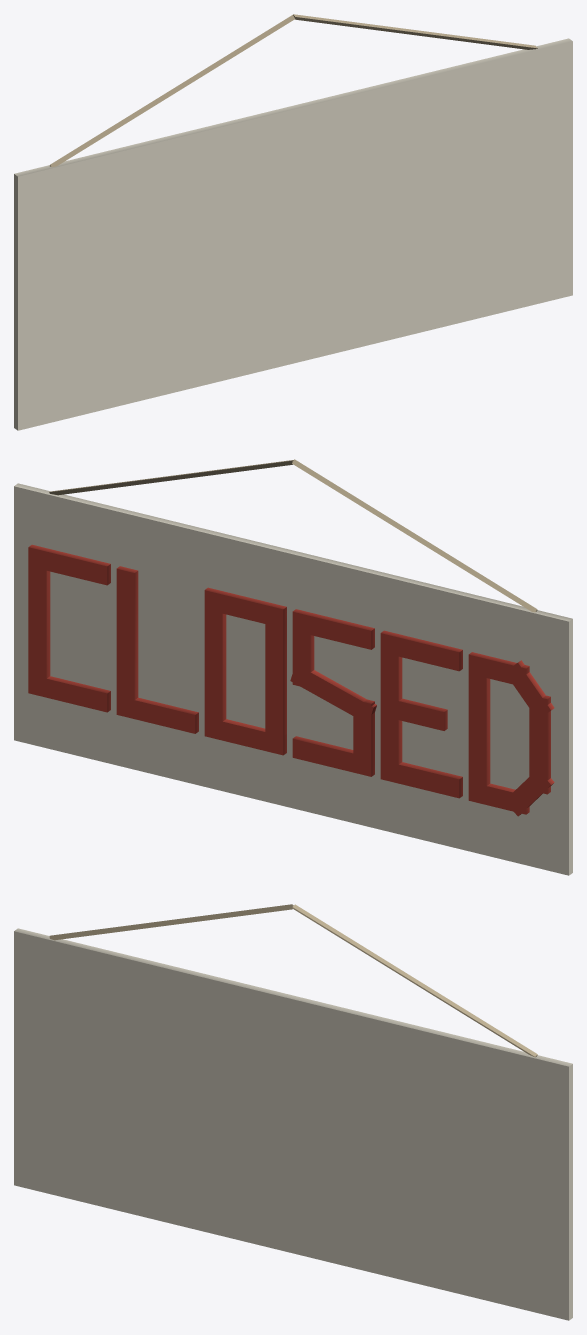
The model's file is closed_card.glb.
The picture shows the model from 3 angles, top to bottom: view 1: azimuth 30°, elevation 25°; view 2: azimuth 150°, elevation 25°; view 3: azimuth 330°, elevation 25°; orthographic projection.
Parts seen in each view (by area): view 1: static; view 2: static; view 3: static.
Part boxes in pixels (<box>): static: <box>14,14,572,430</box>; static: <box>14,459,572,875</box>; static: <box>14,904,572,1320</box>.
Bounding box in the file's own units: 0.32 × 0.1914 × 0.0075.
